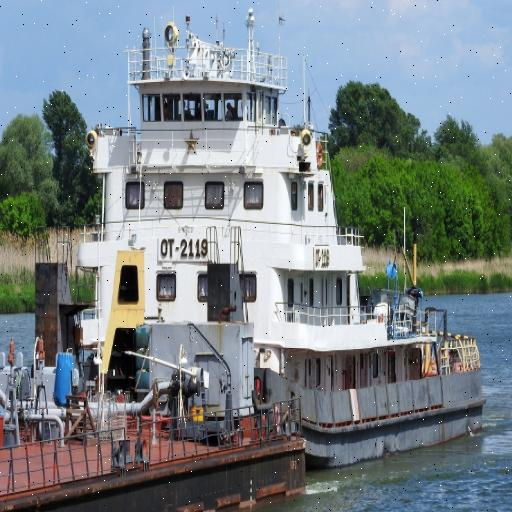tugboat: (31, 12, 491, 479)
